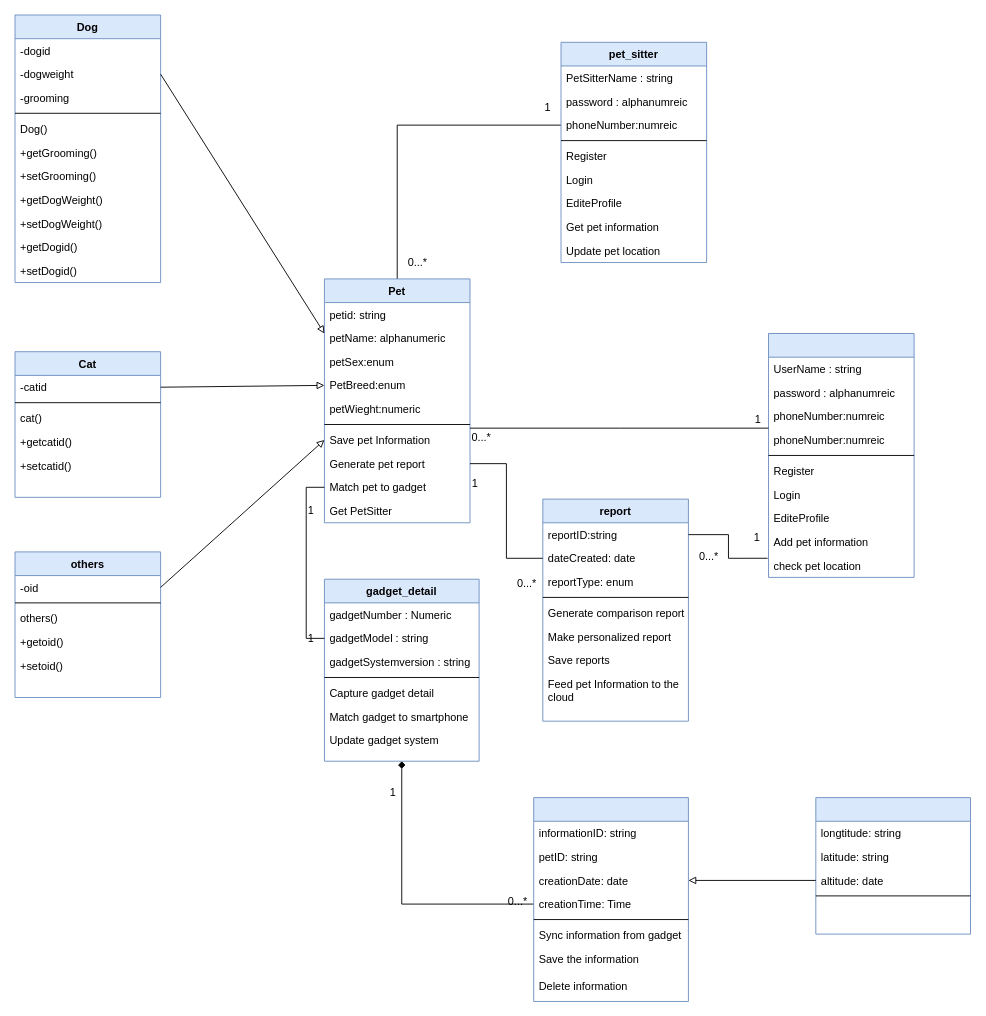
Image size: 986x1016. Some labels were removed from this diagram. The box of each missing label's shape, as (x1, y1, x2, y2) in pixels:
location: (815, 797, 971, 934)
pet_owner: (768, 333, 914, 577)
synced_information: (533, 797, 688, 1001)
